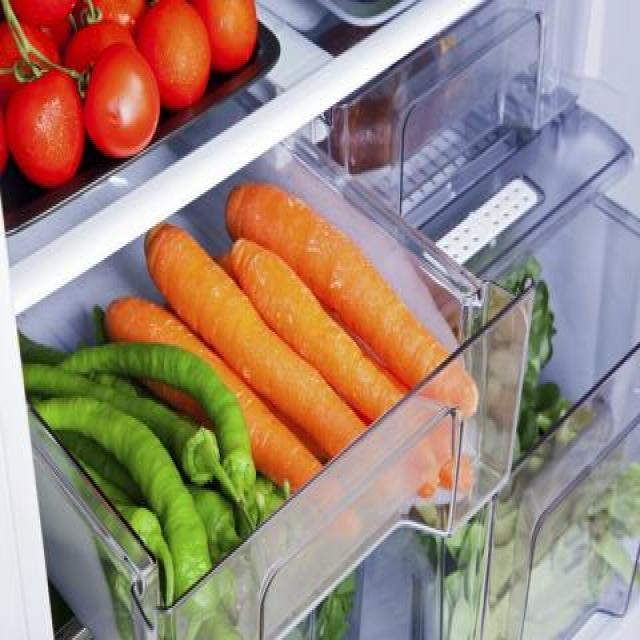carrot: (146, 217, 375, 519), (220, 181, 489, 414), (230, 237, 444, 484)
